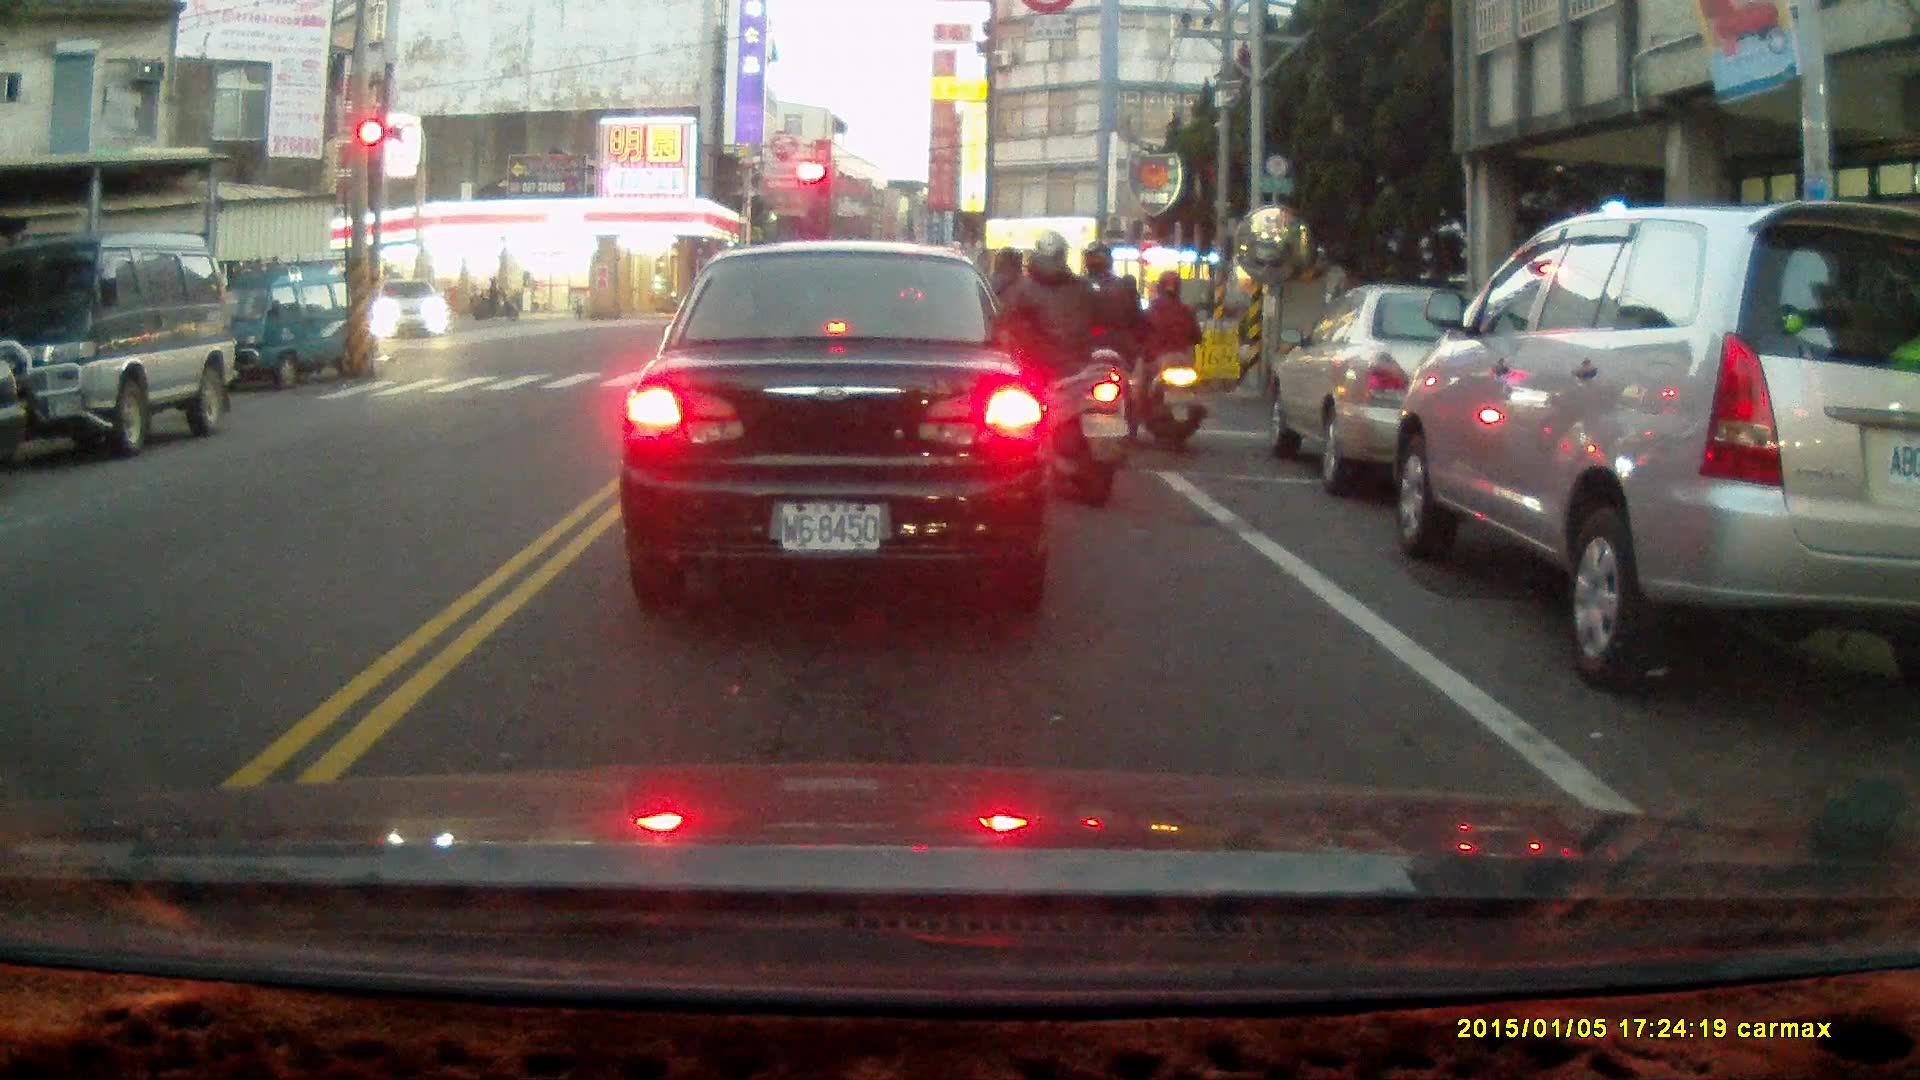rider: (983, 230, 1127, 509), (1048, 242, 1141, 468), (960, 242, 1055, 430), (1135, 270, 1205, 451), (463, 278, 506, 317)
vehicle: (1391, 209, 1914, 703), (617, 243, 1061, 606), (1266, 284, 1569, 492), (1, 234, 239, 458), (191, 258, 375, 393), (372, 277, 451, 343)
